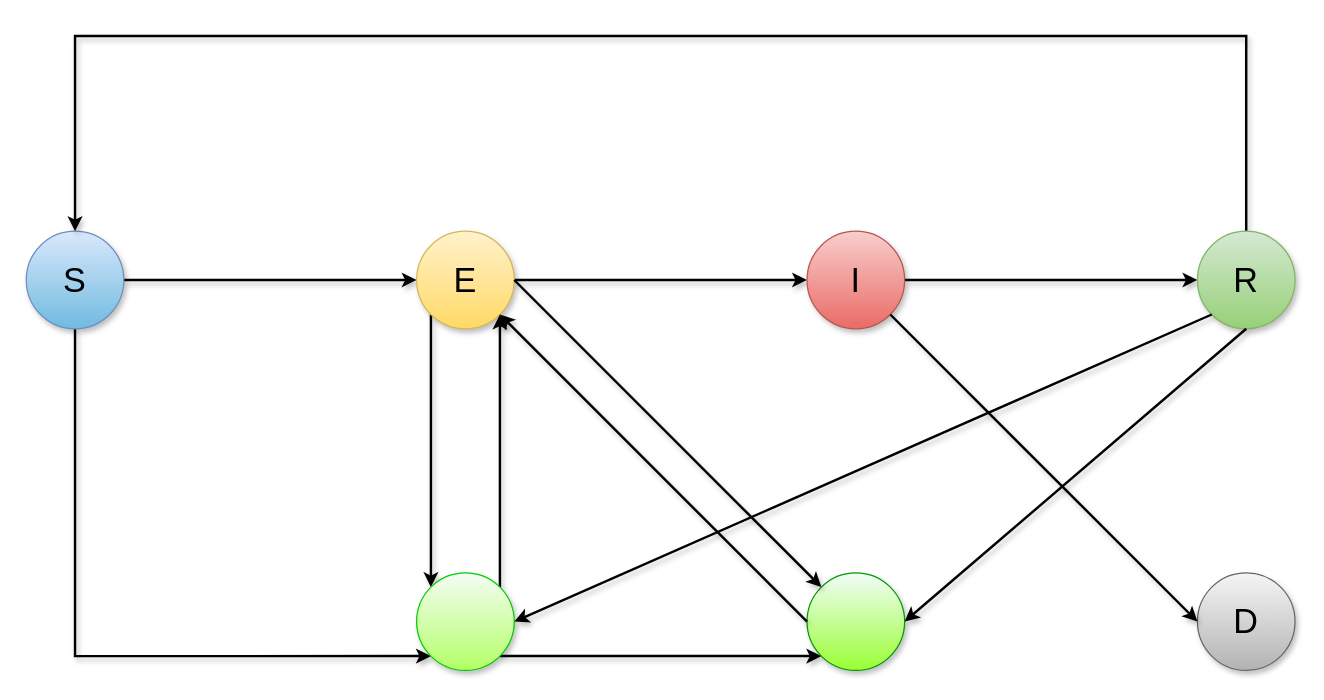
Image size: 1324x700. Some labels were removed from this diagram. The centre of each missing label's shape, as x and y in pixels:
"V 1" belongs at point 466,623.
"V 2" belongs at point 856,623.
